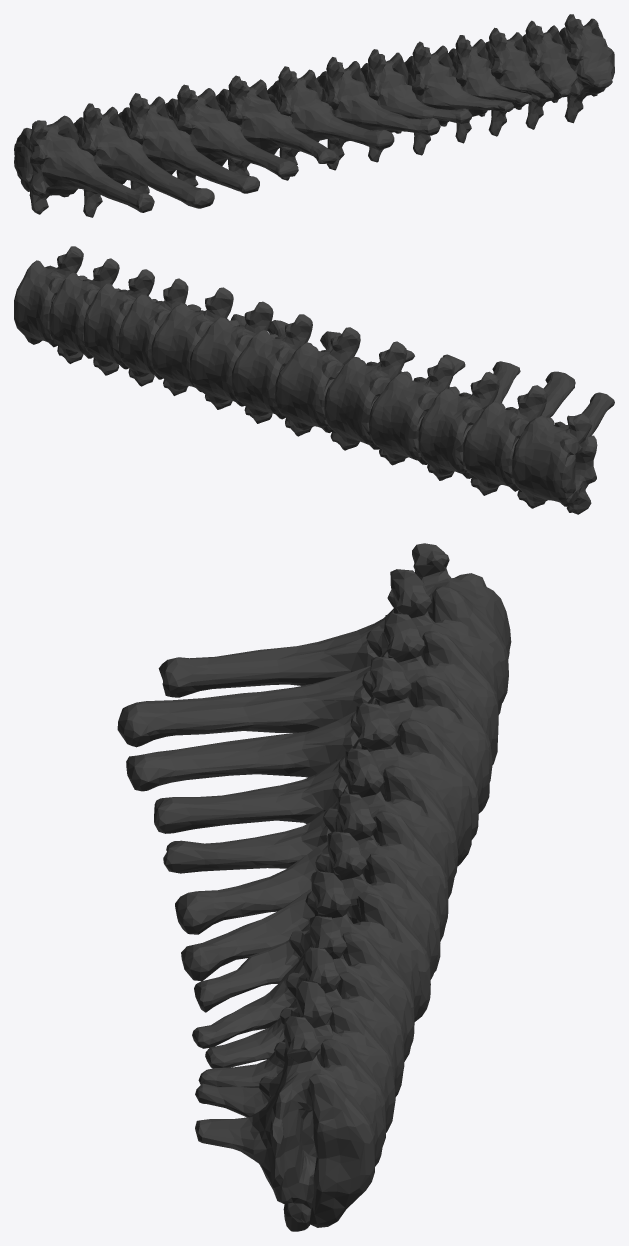
The model's file is Skeleton_17_LP.glb.
The picture shows the model from 3 angles, top to bottom: view 1: azimuth 30°, elevation 25°; view 2: azimuth 150°, elevation 25°; view 3: azimuth 270°, elevation 25°; orthographic projection. The views are drawn at different scales.
Parts seen in each view (by area): view 1: Skeleton_17_LP; view 2: Skeleton_17_LP; view 3: Skeleton_17_LP.
Boxes of the visible parts, x1=… form: Skeleton_17_LP: x1=14, y1=14, x2=614, y2=217; Skeleton_17_LP: x1=14, y1=246, x2=614, y2=514; Skeleton_17_LP: x1=117, y1=543, x2=511, y2=1231.
Bounding box in the file's own units: 0.6166 × 0.1207 × 0.1907.
Materials: 1 (1 with a texture image).
